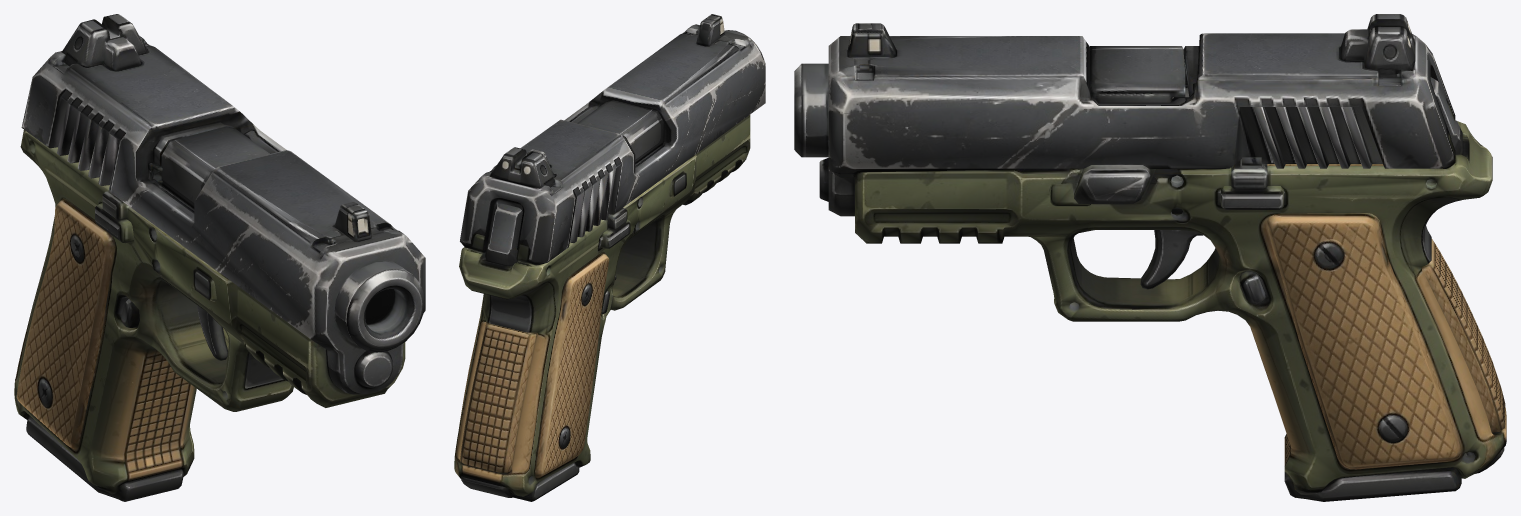
Rendered from tripo_convert_806e4cda-3b2b-47b2-8999-9e63c2c6f496.fbx.
3 views of the same model, side by side, from view 1: azimuth 30°, elevation 25°; view 2: azimuth 150°, elevation 25°; view 3: azimuth 270°, elevation 25° (orthographic). The views are drawn at different scales.
Parts seen in each view (by area): view 1: tripo_node_806e4cda; view 2: tripo_node_806e4cda; view 3: tripo_node_806e4cda.
Boxes of the visible parts, x1,y1,x2,y2 form: tripo_node_806e4cda: [14, 14, 425, 501]; tripo_node_806e4cda: [454, 14, 765, 501]; tripo_node_806e4cda: [794, 14, 1506, 501].
Size of the model in its own units: 0.2134 by 0.7153 by 0.9995.
Materials: 1 (1 with a texture image).
